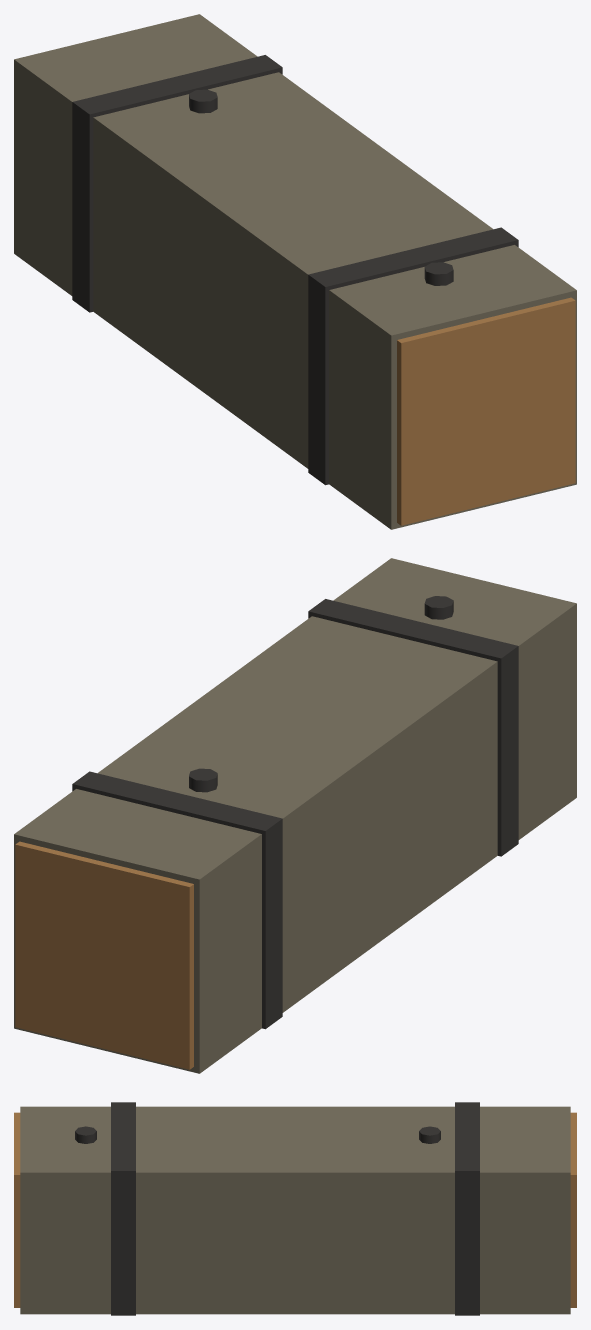
Rendered from timber_baulk.glb.
3 views of the same model, one above another, from view 1: azimuth 30°, elevation 25°; view 2: azimuth 150°, elevation 25°; view 3: azimuth 270°, elevation 25° (orthographic). The views are drawn at different scales.
Visible parts, largest first — view 1: timber_baulk; view 2: timber_baulk; view 3: timber_baulk.
Part boxes in pixels (x1,y1,x2,y2): timber_baulk: (14,14,576,529); timber_baulk: (14,558,576,1073); timber_baulk: (14,1102,576,1315).
Bounding box in the file's own units: 0.52 × 0.53 × 1.8.
